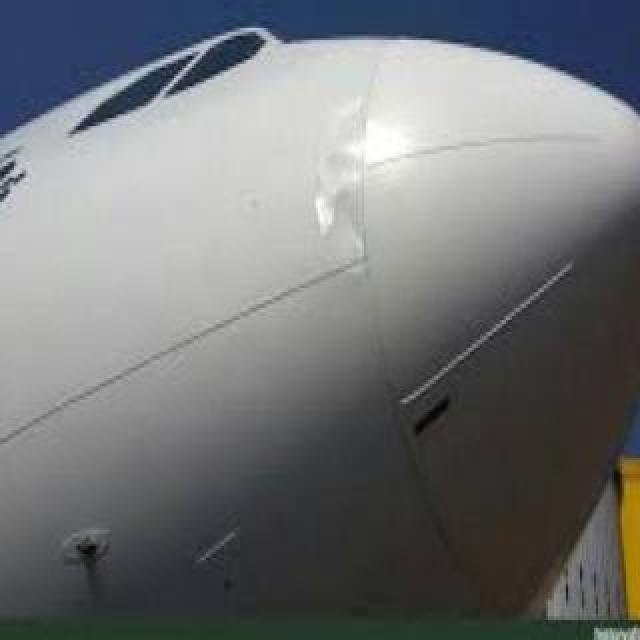dent: (314, 102, 368, 234)
